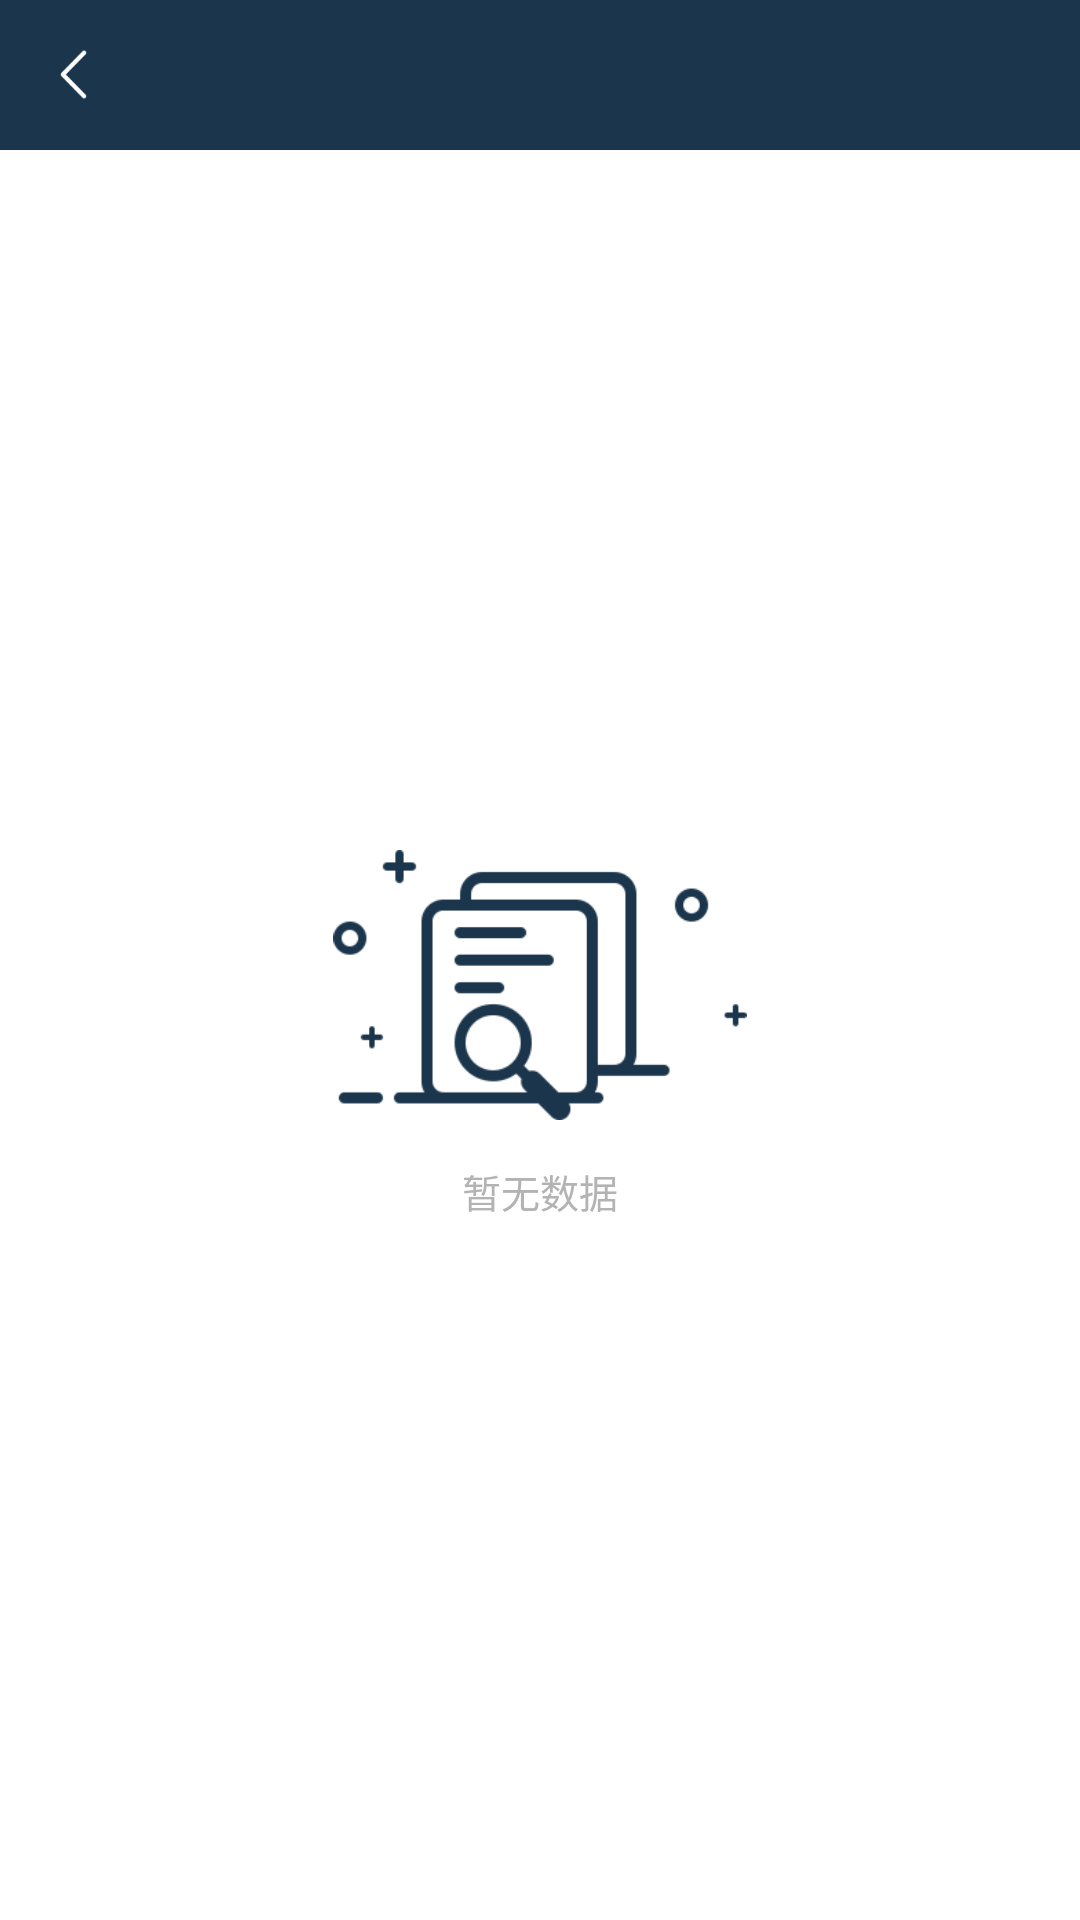

Icon bounding boxes for this 1080x1920 phone screenshot, format (x1, y1, x2, y2):
left arrow: (60, 50, 87, 99)
